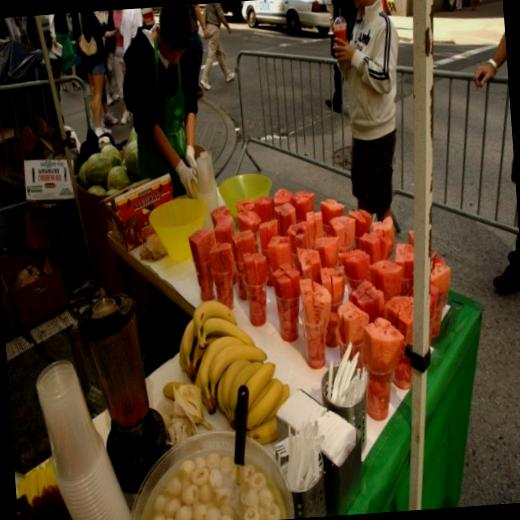Cherry: (184, 174, 462, 431)
